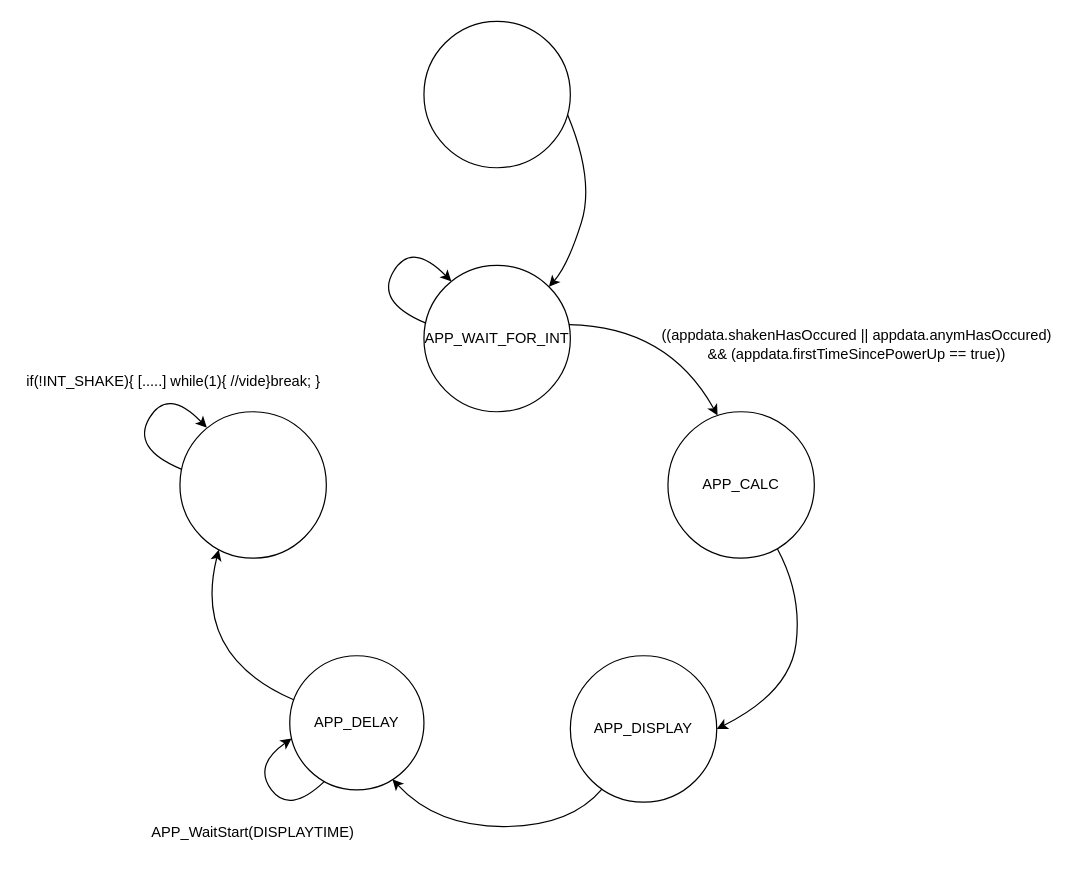
Image size: 1078x872. Some labels were removed from this diagram. Each missing label, with the centre of its shape:
APP_INIT: point 496,94
APP_KILL: point 252,484
